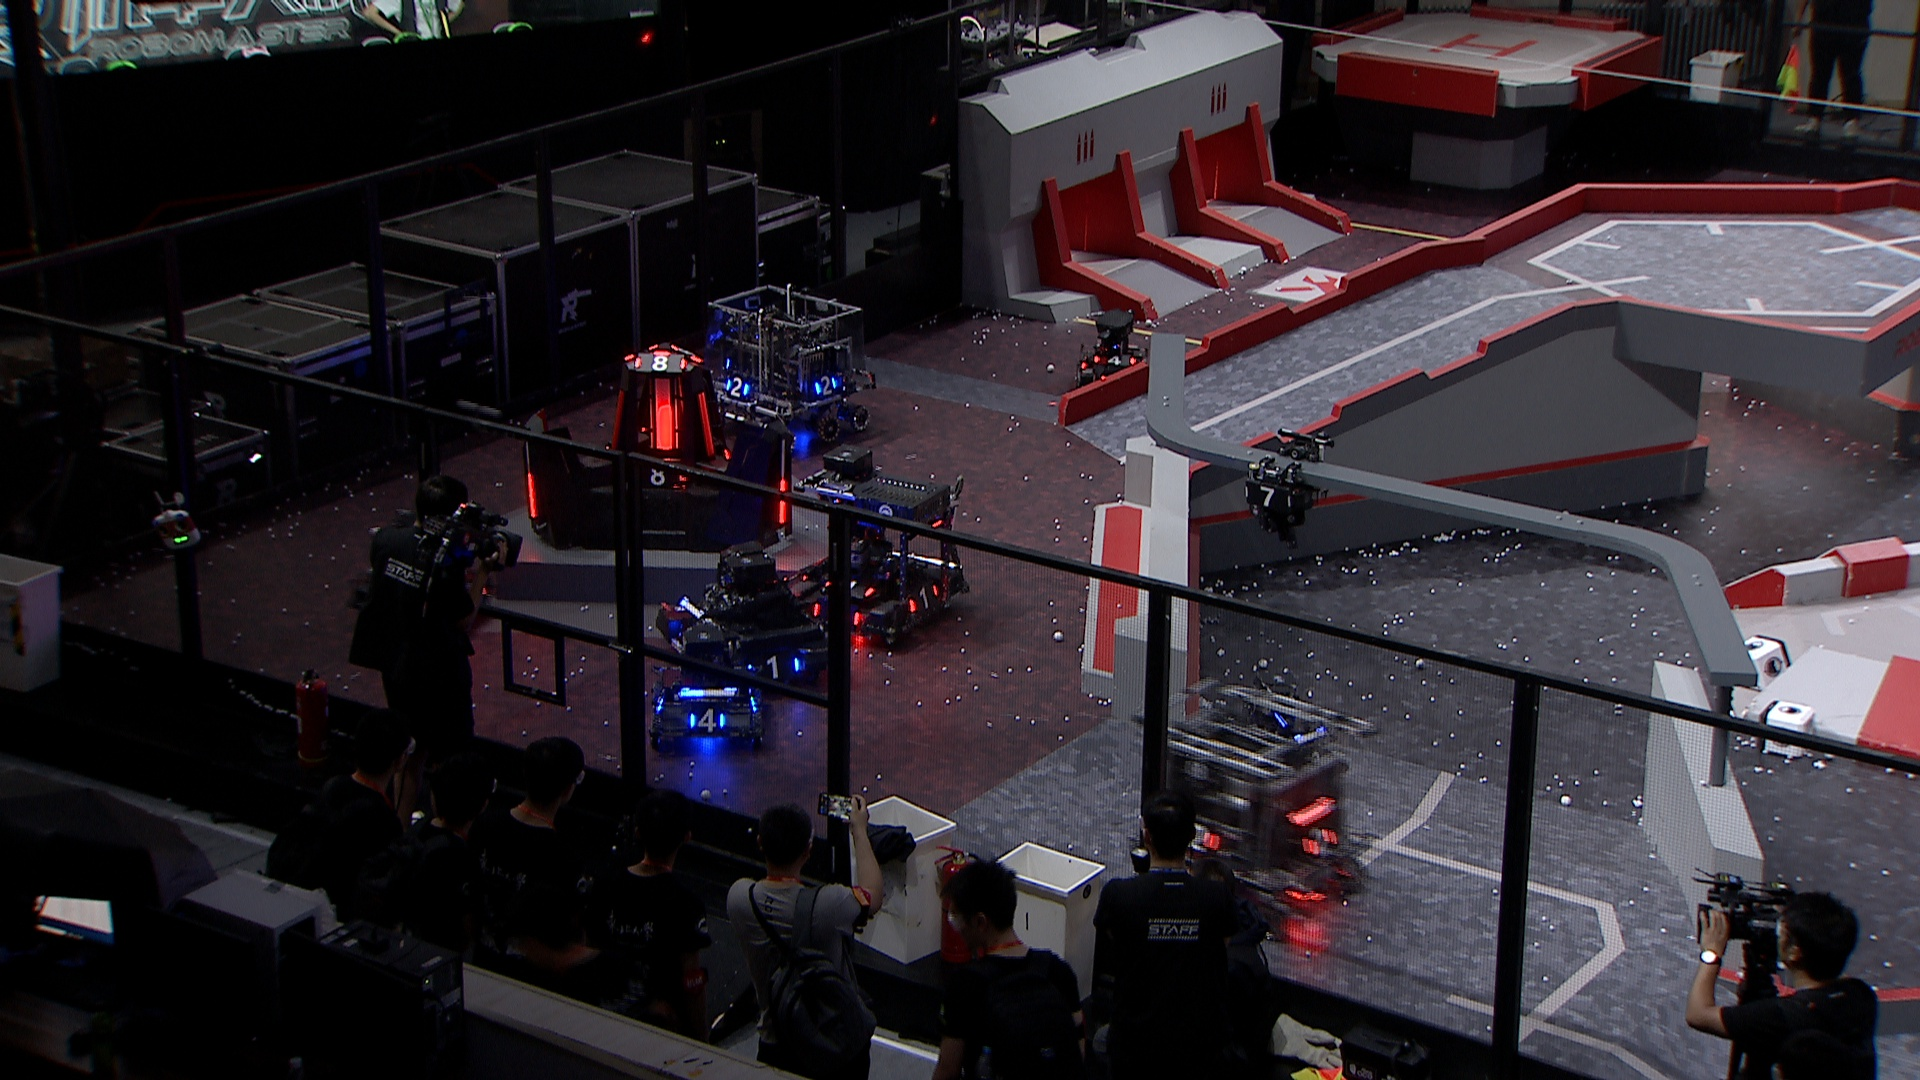armor: (647, 400, 683, 450), (744, 651, 803, 680), (694, 390, 717, 458), (1242, 483, 1295, 512), (686, 705, 731, 733), (637, 465, 688, 489), (608, 386, 626, 450), (1189, 822, 1222, 856), (1300, 827, 1338, 856), (633, 356, 688, 376), (907, 584, 942, 616), (524, 472, 541, 522), (723, 375, 754, 398), (775, 479, 790, 526), (811, 376, 840, 398), (1091, 353, 1139, 367)
base: (516, 342, 796, 555)
car: (1129, 680, 1373, 935), (781, 451, 971, 650), (688, 282, 880, 446), (651, 542, 836, 702), (646, 617, 769, 752), (1073, 309, 1163, 396)
watcher: (1237, 427, 1335, 550)
